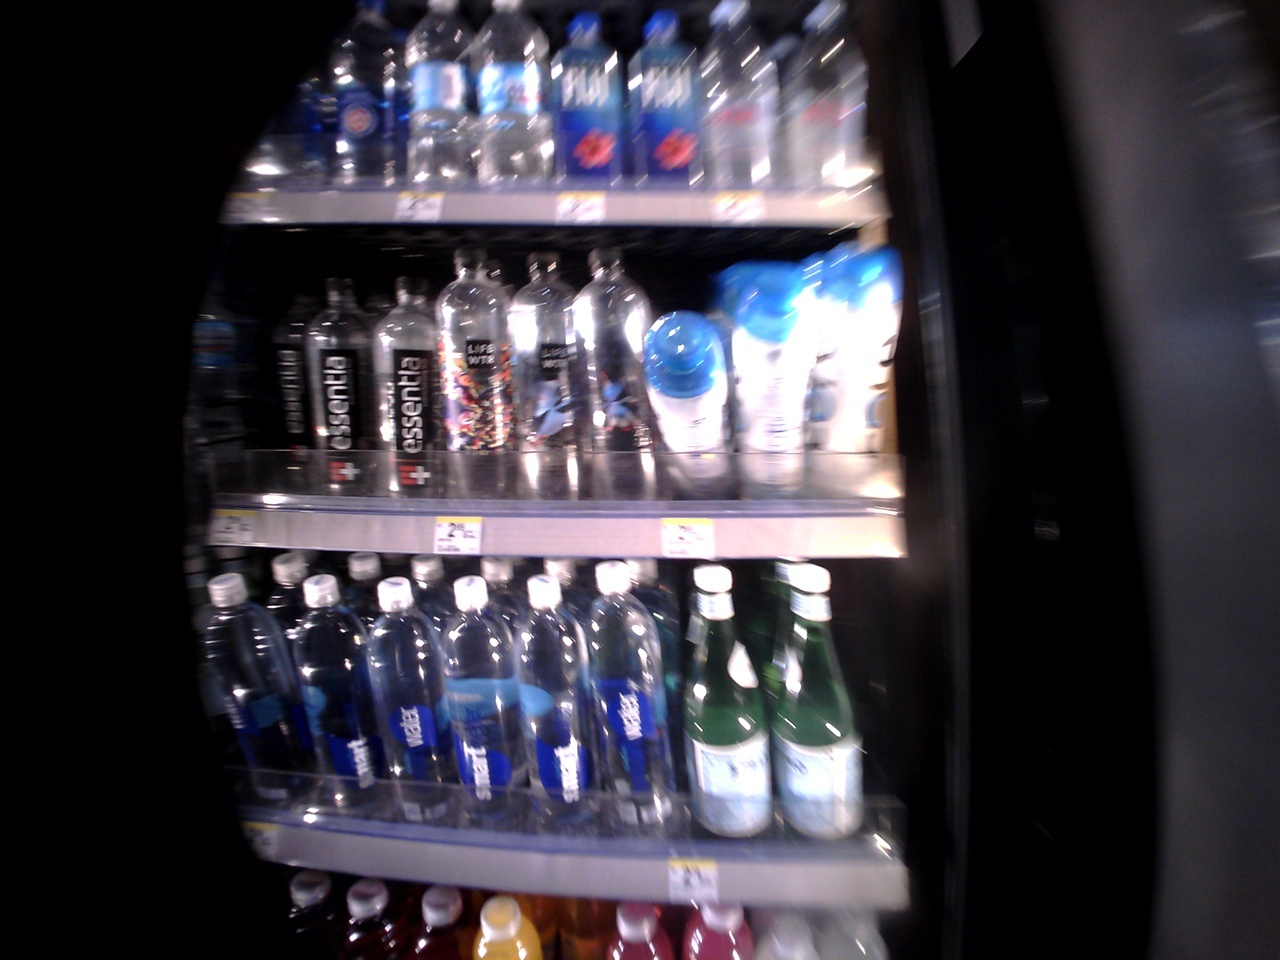shelf: (185, 535, 880, 896), (193, 232, 924, 546), (165, 7, 907, 227)
